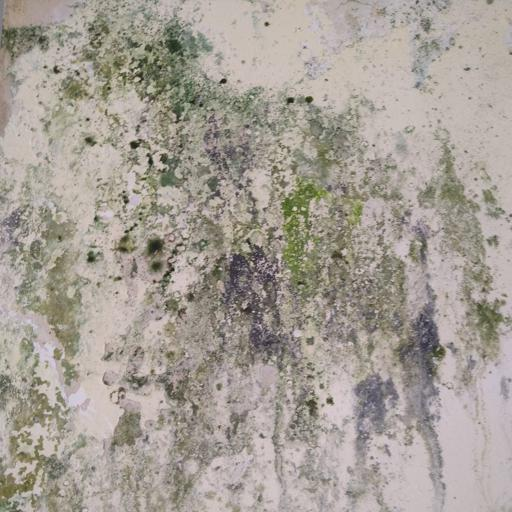algae: (41, 13, 412, 391)
